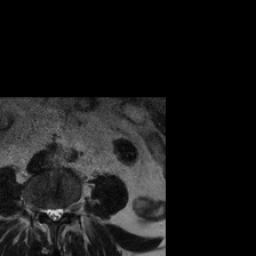CCS_stenosis: (52, 202, 58, 227)
LFS_normal: (64, 198, 70, 220)
LLS_stenosis: (58, 201, 64, 223)
RFS_stenosis: (39, 198, 45, 219)
RLS_stenosis: (45, 202, 52, 223)
